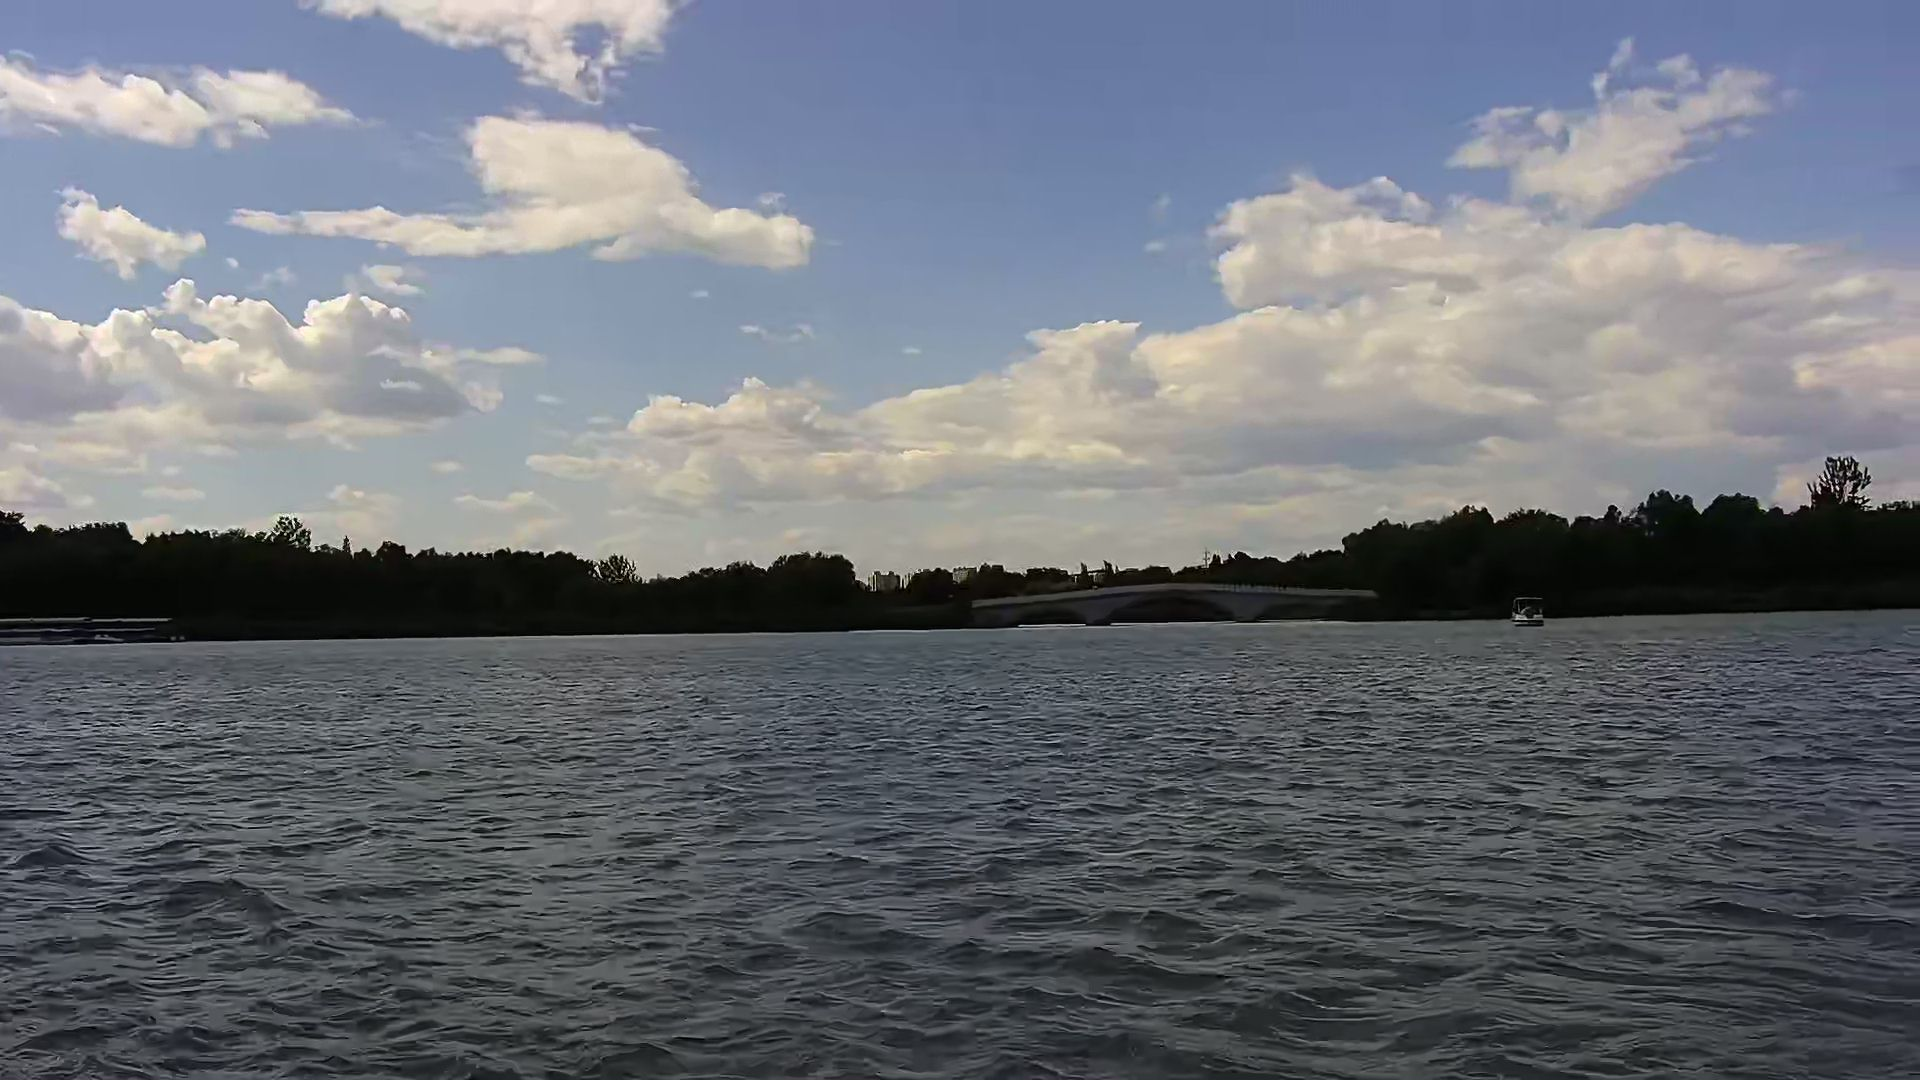boat: (1505, 588, 1552, 633)
bridge: (969, 578, 1400, 626)
